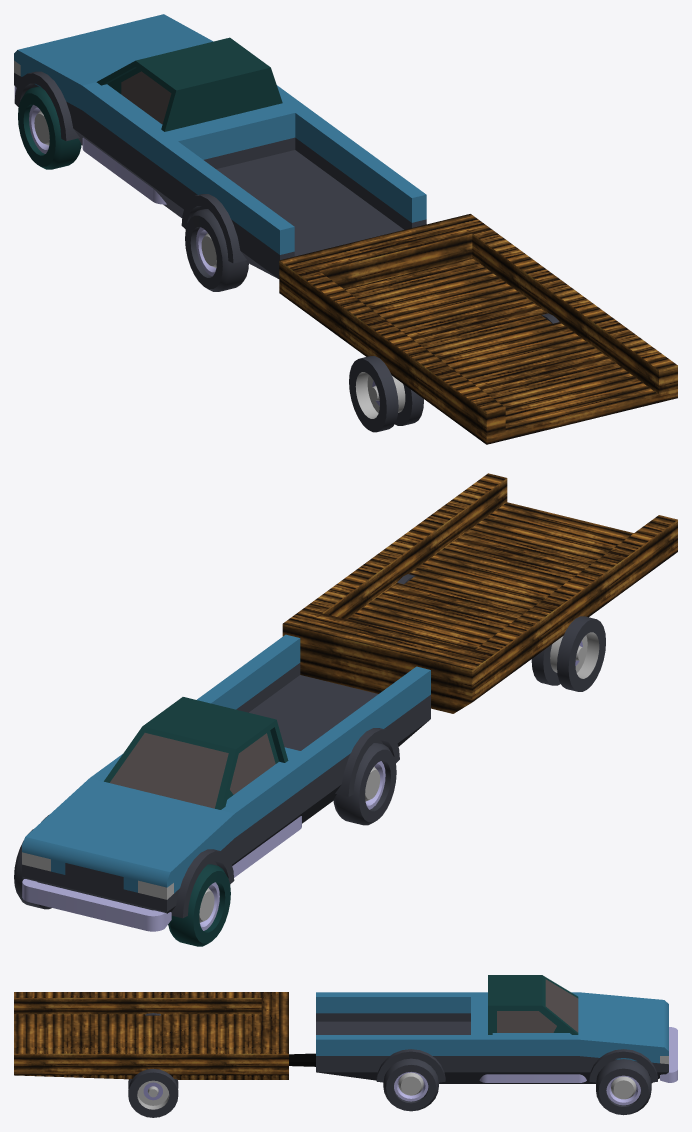
File: Job Truck_1.glb
The picture shows the model from 3 angles, top to bottom: view 1: azimuth 30°, elevation 25°; view 2: azimuth 150°, elevation 25°; view 3: azimuth 270°, elevation 25°; orthographic projection. The views are drawn at different scales.
Parts seen in each view (by area): view 1: mergedBlocks(Clone); view 2: mergedBlocks(Clone); view 3: mergedBlocks(Clone).
Boxes of the visible parts, left/top/right/bottom form: mergedBlocks(Clone): left=14, top=14, right=677, bottom=444; mergedBlocks(Clone): left=14, top=473, right=677, bottom=946; mergedBlocks(Clone): left=14, top=975, right=677, bottom=1117.
Size of the model in its own units: 1.83 by 1.16 by 7.34.
Materials: 9 (1 with a texture image).
